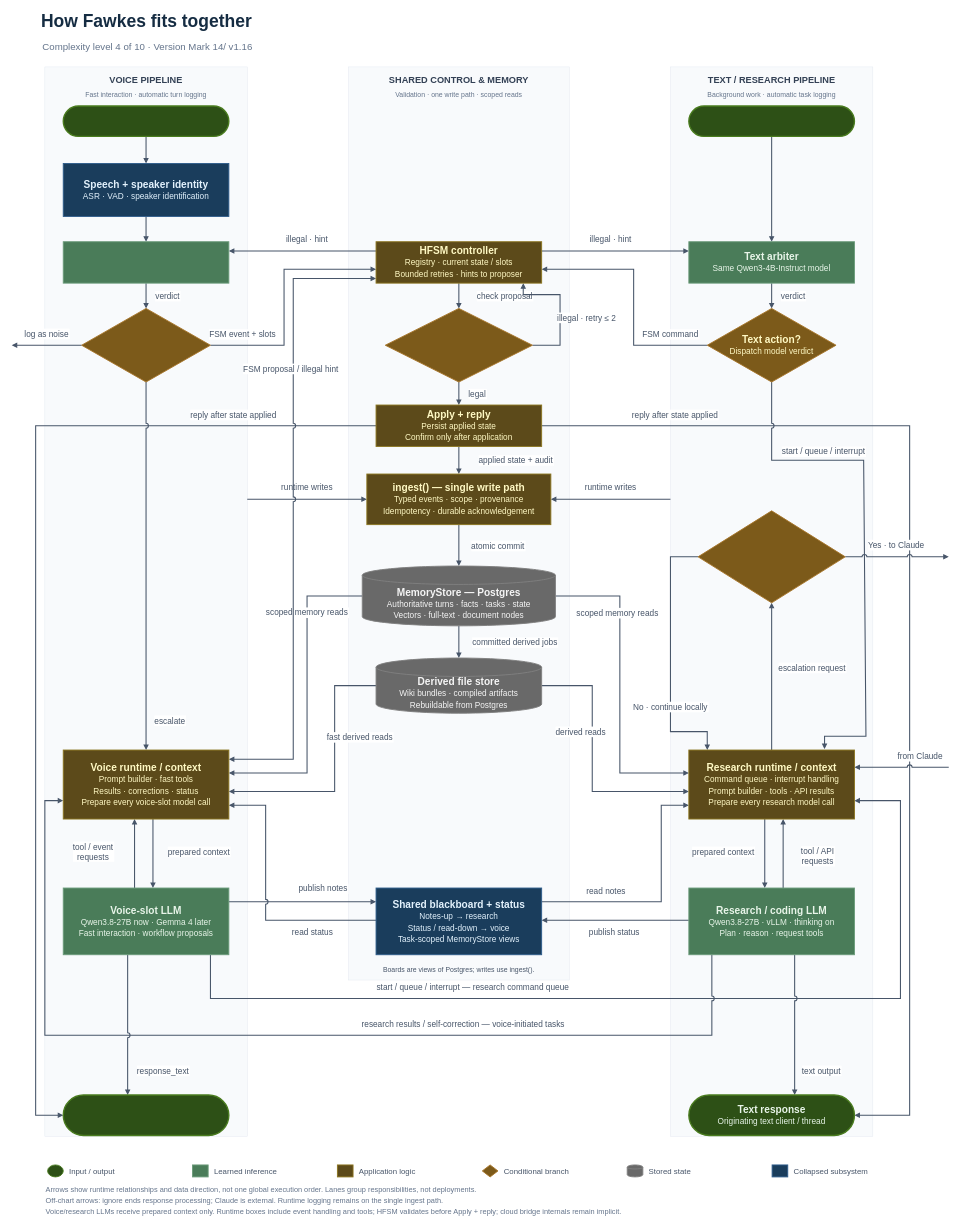
Image size: 961x1224. Some labels were removed from this diagram. The centre of each missing label's shape, as x and y in pixels:
"Cloud escalation? Trigger + scope Policy + budget?" goes at (771,556).
"Spoken response XTTS / Piper → voice client speaker" goes at (145,1115).
"Text clients Web · mobile · coding clients" goes at (771,121).
"Transition / slots legal? Statechart law" goes at (459,345).
"Voice clients Microphones · phones · satellites" goes at (145,121).
"Voice route? Dispatch model verdict" goes at (146,345).
"Voice router Qwen3-4B-Instruct" goes at (146,262).
